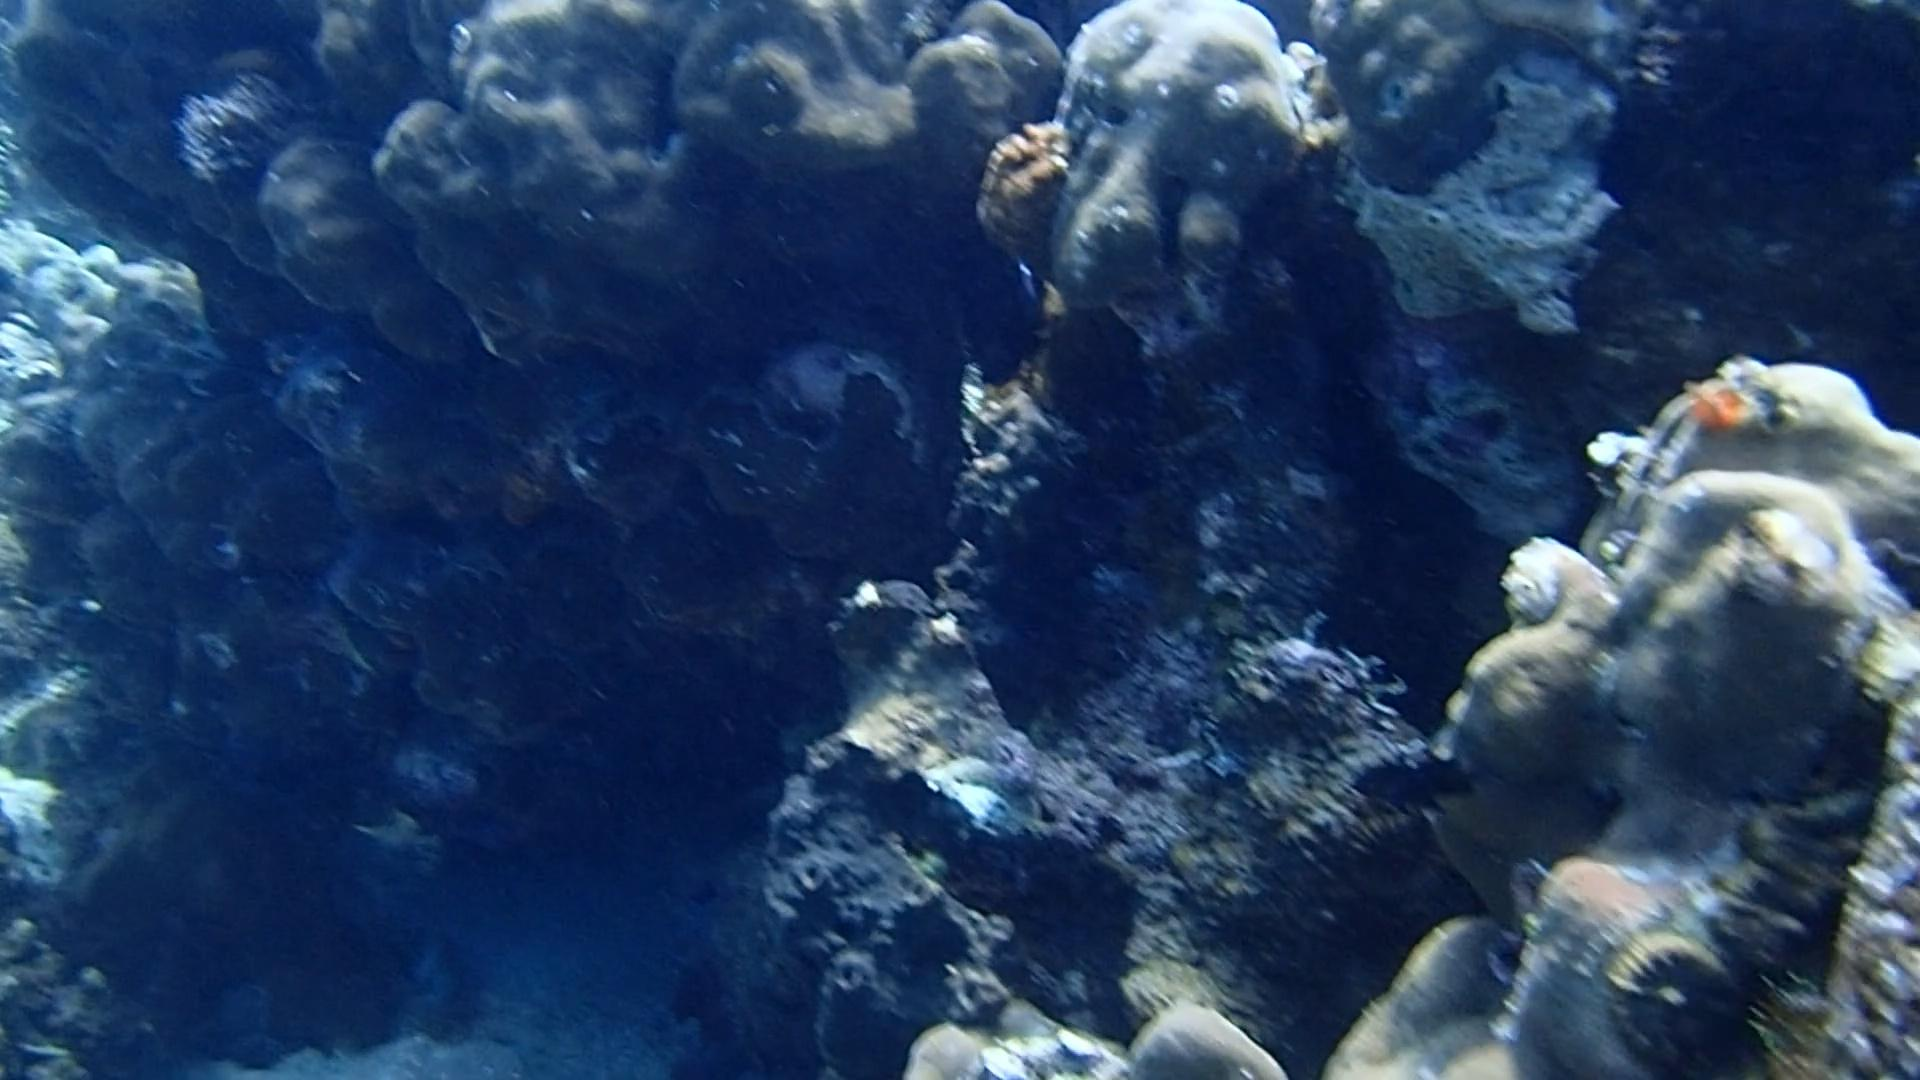Dark Fish: (1350, 757, 1439, 820), (1400, 745, 1486, 808)
